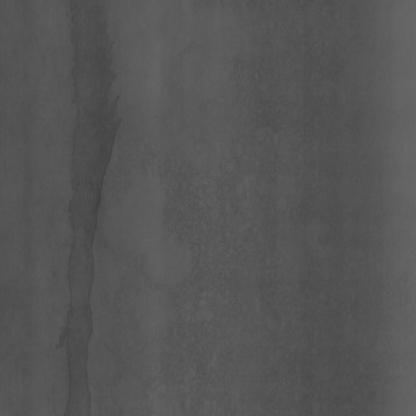water_spot: (60, 10, 133, 398)
